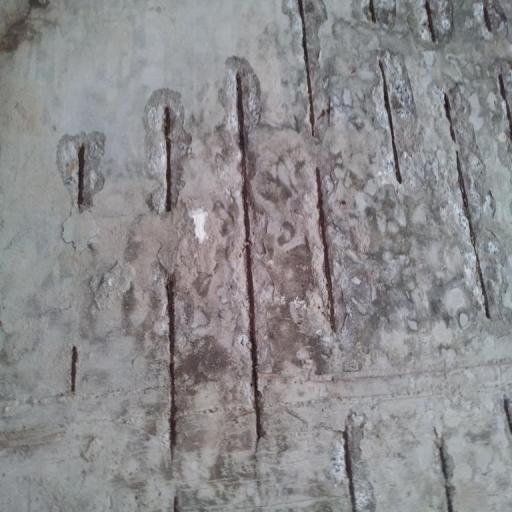spalling: (229, 55, 297, 467), (432, 61, 512, 329), (358, 1, 421, 187), (301, 164, 367, 334), (282, 0, 336, 149), (152, 272, 193, 462), (140, 89, 194, 218), (56, 136, 110, 217), (333, 416, 375, 512), (427, 429, 462, 511), (410, 1, 447, 46), (475, 0, 503, 41)
